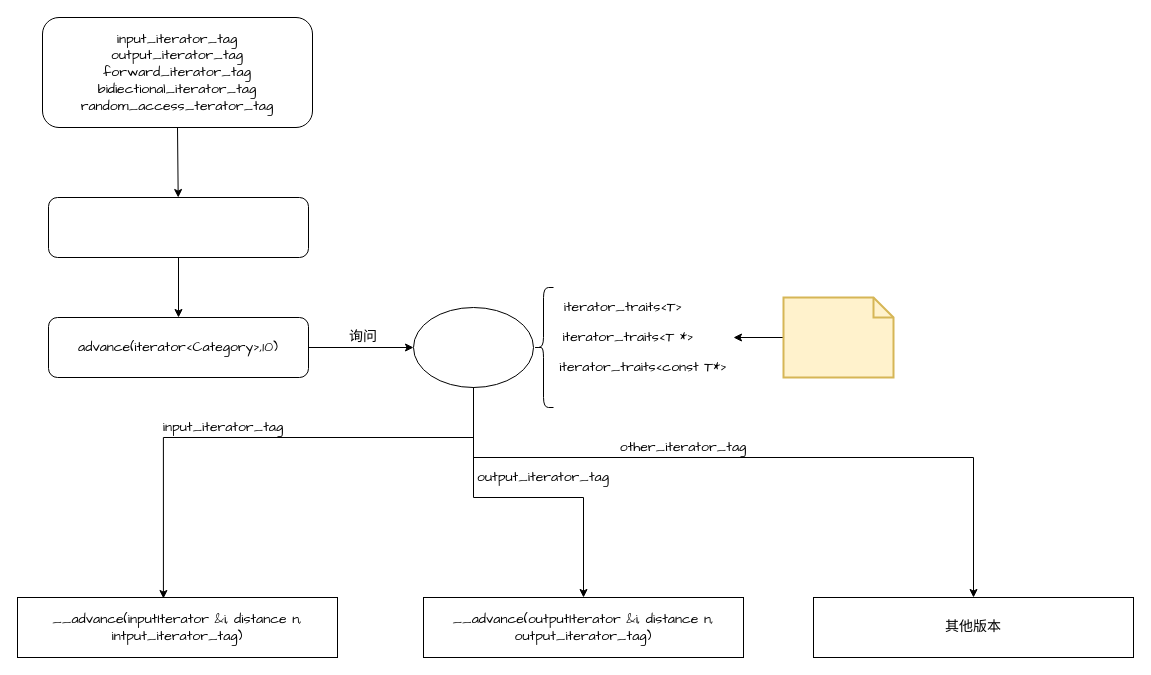
This 1151x675 diagram has some shape labels left out. The centre of each missing label's shape, as x and y in pixels:
"iterator<Category>" belongs at [178,227].
"iterator_traits 萃取机" belongs at [473,347].
"根据advance询问，萃取机回答,看得到那种tag" belongs at [838,337].
